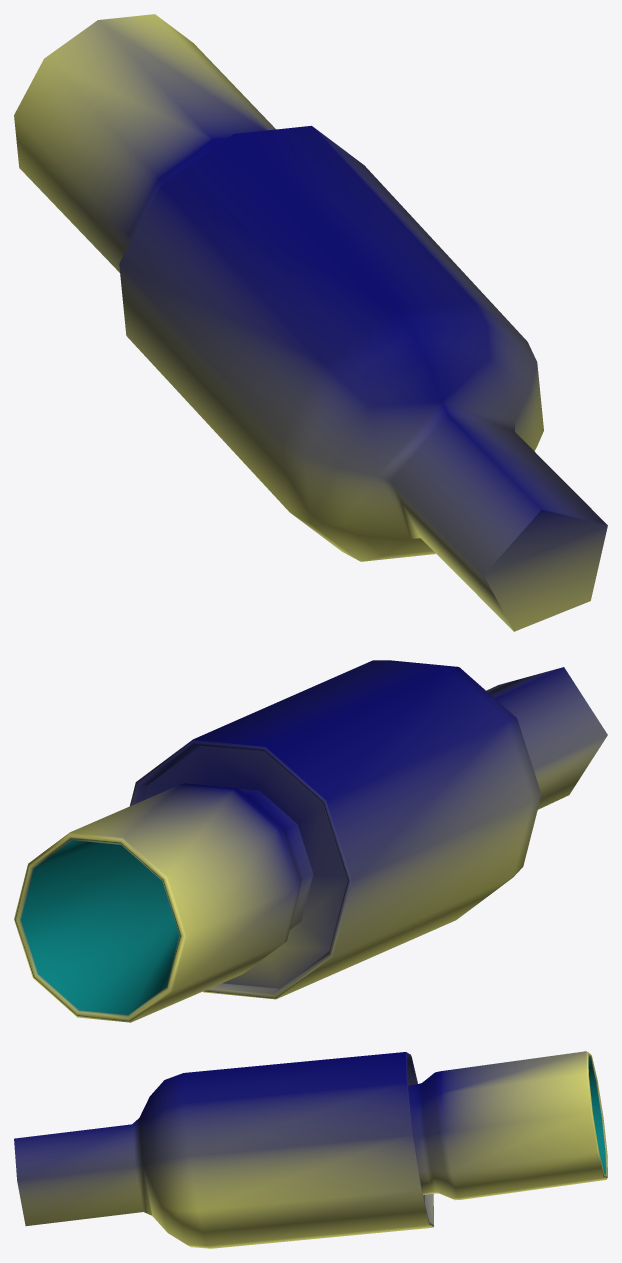
File: Car_Nissan_SkylineGTRVspecR34_1999_Exhausts_SetFF.fbx
3 renders of one model, top to bottom at view 1: azimuth 30°, elevation 25°; view 2: azimuth 150°, elevation 25°; view 3: azimuth 270°, elevation 25°, orthographic. The views are drawn at different scales.
Parts seen in each view (by area): view 1: Exhausts 6; view 2: Exhausts 6; view 3: Exhausts 6.
Part boxes in pixels (x1,y1,x2,y2): Exhausts 6: (14, 14, 607, 631); Exhausts 6: (14, 660, 607, 1022); Exhausts 6: (14, 1051, 607, 1248).
Size of the model in its own units: 0.148 by 0.1615 by 0.4545.
